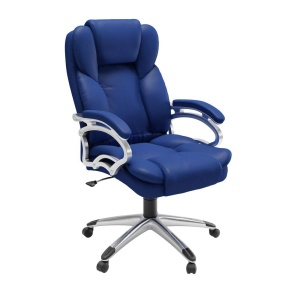chair: (64, 19, 232, 275)
